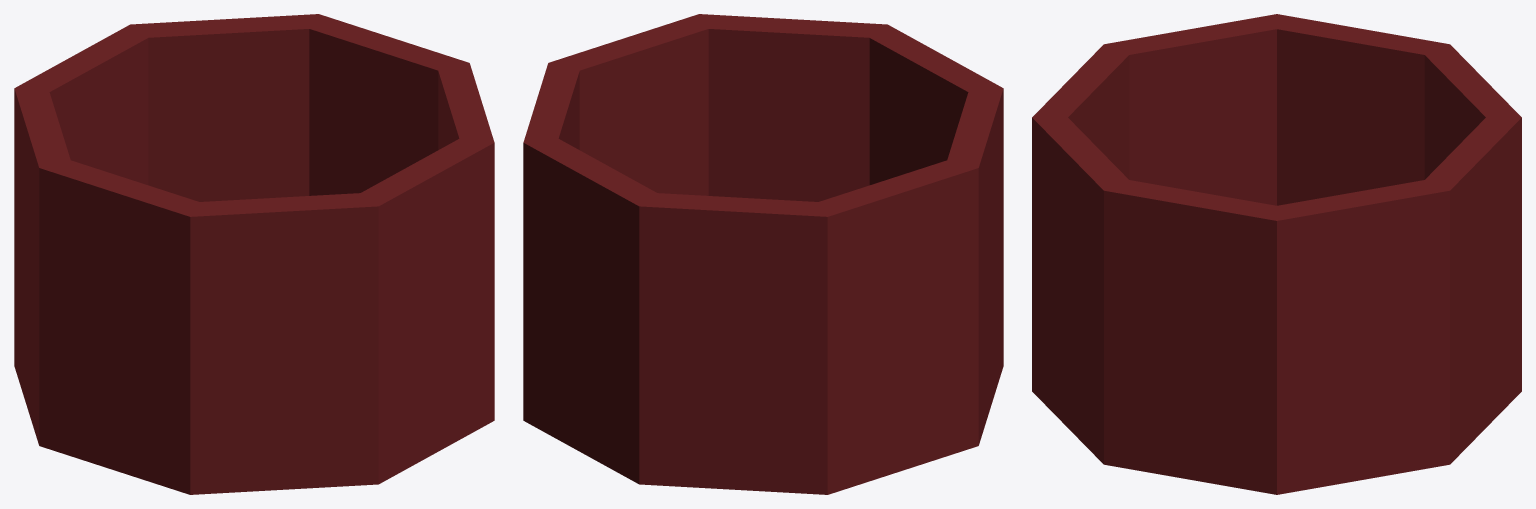
Rendered from LevelWalls.fbx.
3 renders of one model, left to right at view 1: azimuth 30°, elevation 25°; view 2: azimuth 150°, elevation 25°; view 3: azimuth 270°, elevation 25°, orthographic.
Parts seen in each view (by area): view 1: Cylinder.004, Cylinder.005, Cylinder.003, Cylinder.008, Cylinder.001, Cylinder.007, Cylinder.006, Cylinder.002; view 2: Cylinder.007, Cylinder.006, Cylinder.008, Cylinder.003, Cylinder.002, Cylinder.004, Cylinder.005, Cylinder.001; view 3: Cylinder.001, Cylinder.002, Cylinder.005, Cylinder.006, Cylinder.003, Cylinder.008, Cylinder.004, Cylinder.007.
Part boxes in pixels (<box>): Cylinder.004: <box>190,193,378,494</box>; Cylinder.005: <box>39,160,199,494</box>; Cylinder.003: <box>361,138,494,483</box>; Cylinder.008: <box>130,14,318,201</box>; Cylinder.001: <box>309,14,468,195</box>; Cylinder.007: <box>15,24,148,184</box>; Cylinder.006: <box>14,88,70,445</box>; Cylinder.002: <box>438,63,494,149</box>; Cylinder.007: <box>639,193,827,494</box>; Cylinder.006: <box>818,160,978,494</box>; Cylinder.008: <box>523,138,656,483</box>; Cylinder.003: <box>699,14,887,201</box>; Cylinder.002: <box>549,14,708,195</box>; Cylinder.004: <box>869,24,1002,184</box>; Cylinder.005: <box>947,88,1003,445</box>; Cylinder.001: <box>523,63,579,149</box>; Cylinder.001: <box>1277,180,1449,494</box>; Cylinder.002: <box>1104,180,1276,494</box>; Cylinder.005: <box>1104,14,1276,205</box>; Cylinder.006: <box>1277,14,1449,205</box>; Cylinder.003: <box>1032,117,1128,464</box>; Cylinder.008: <box>1425,117,1521,464</box>; Cylinder.004: <box>1032,44,1129,179</box>; Cylinder.007: <box>1424,44,1521,179</box>.
Size of the model in its own units: 1172 by 723 by 1172.
